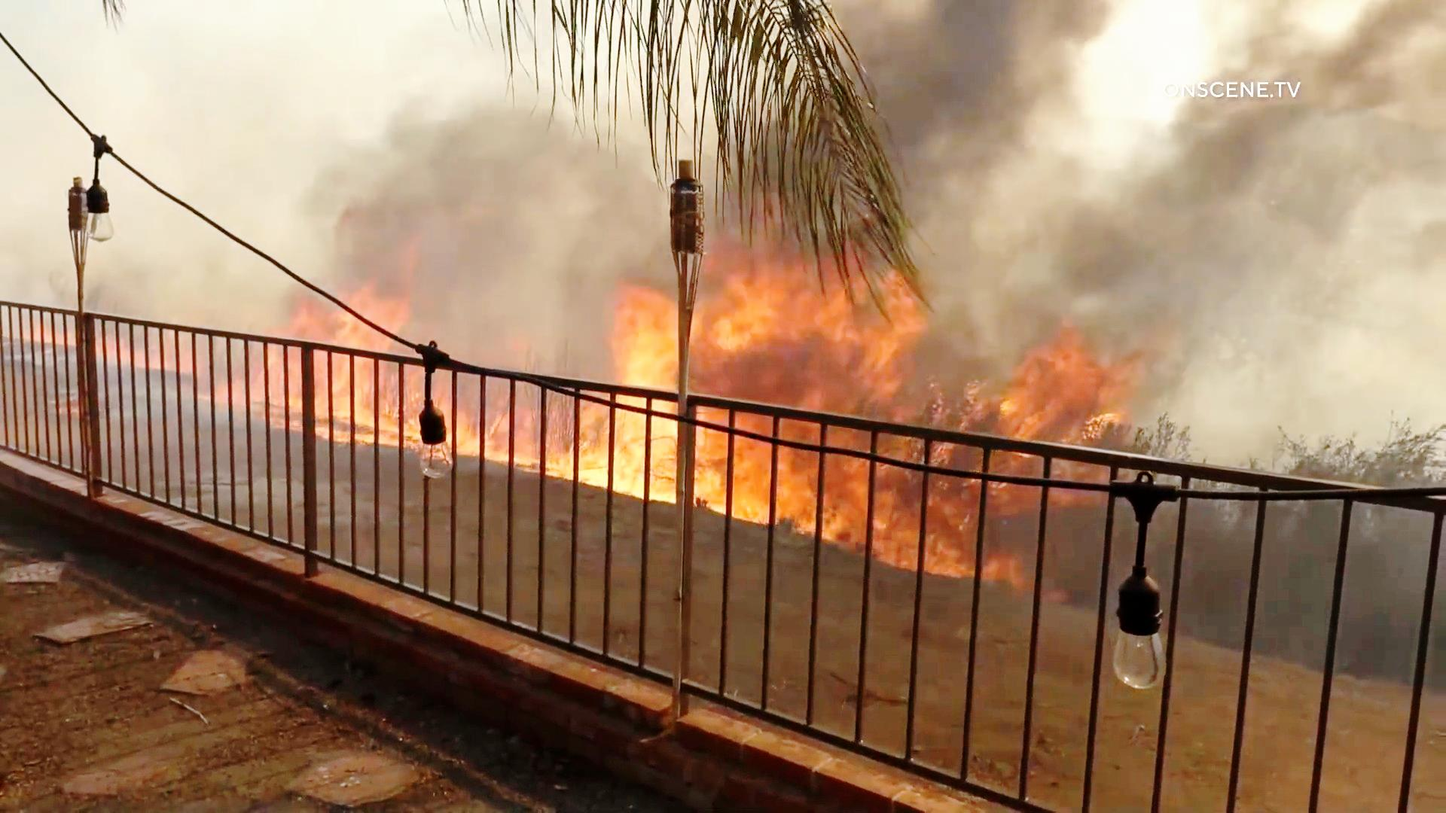fire: (701, 258, 909, 408), (241, 281, 399, 455), (720, 418, 923, 550), (556, 288, 676, 503), (998, 341, 1163, 446)
smoke: (923, 132, 1436, 317), (349, 126, 627, 283), (872, 15, 1087, 163)
